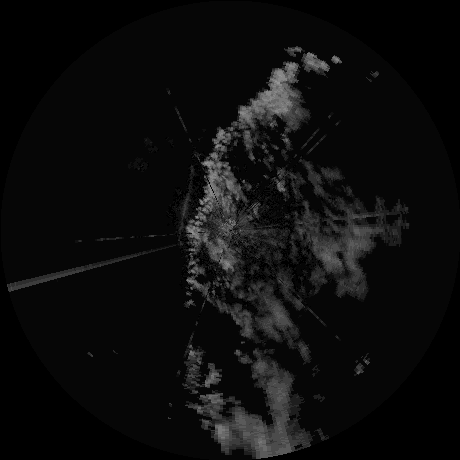frontgust: (179, 165, 195, 240)
